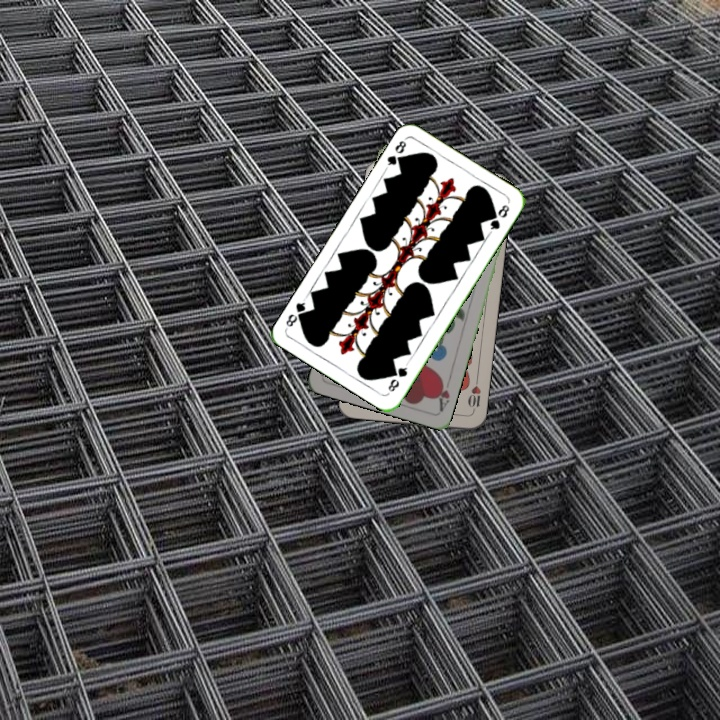G8: (382, 135, 409, 172), (384, 363, 410, 394)
H10: (464, 375, 484, 416)
HA: (432, 374, 453, 414)
